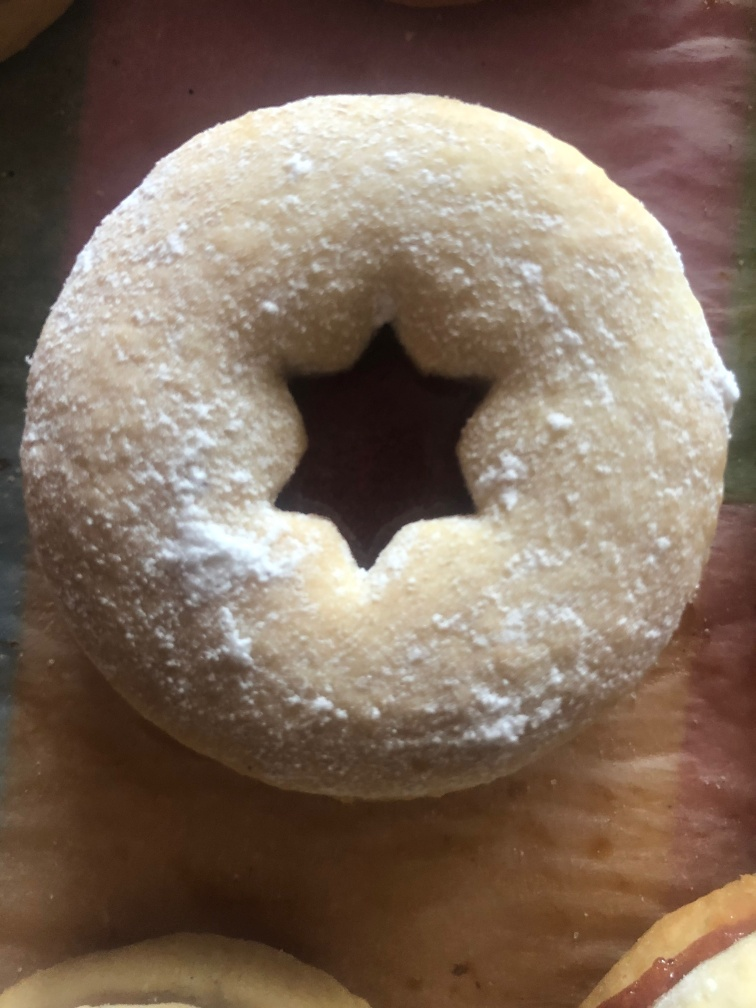christmas shortbread with jam: (14, 86, 733, 794)
